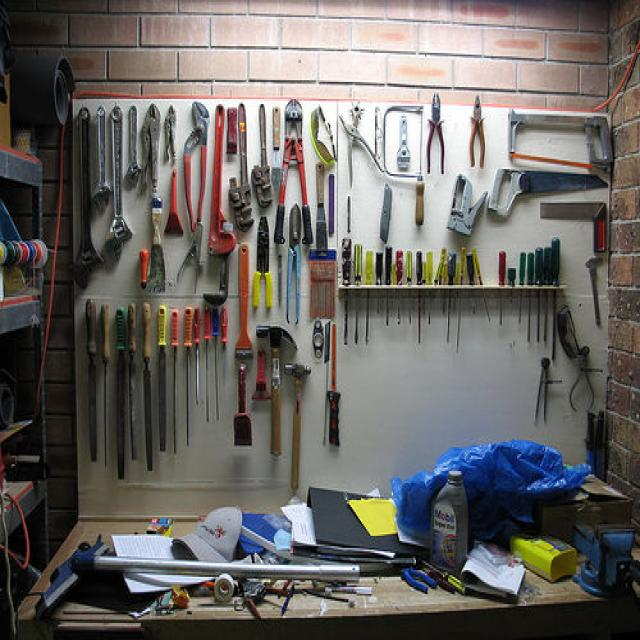hammer: (256, 324, 300, 457), (282, 363, 313, 492)
saw: (485, 168, 613, 221)
screw_driver: (352, 237, 364, 353), (415, 242, 425, 348)
wire_cutter: (426, 90, 451, 173), (468, 95, 486, 170)
